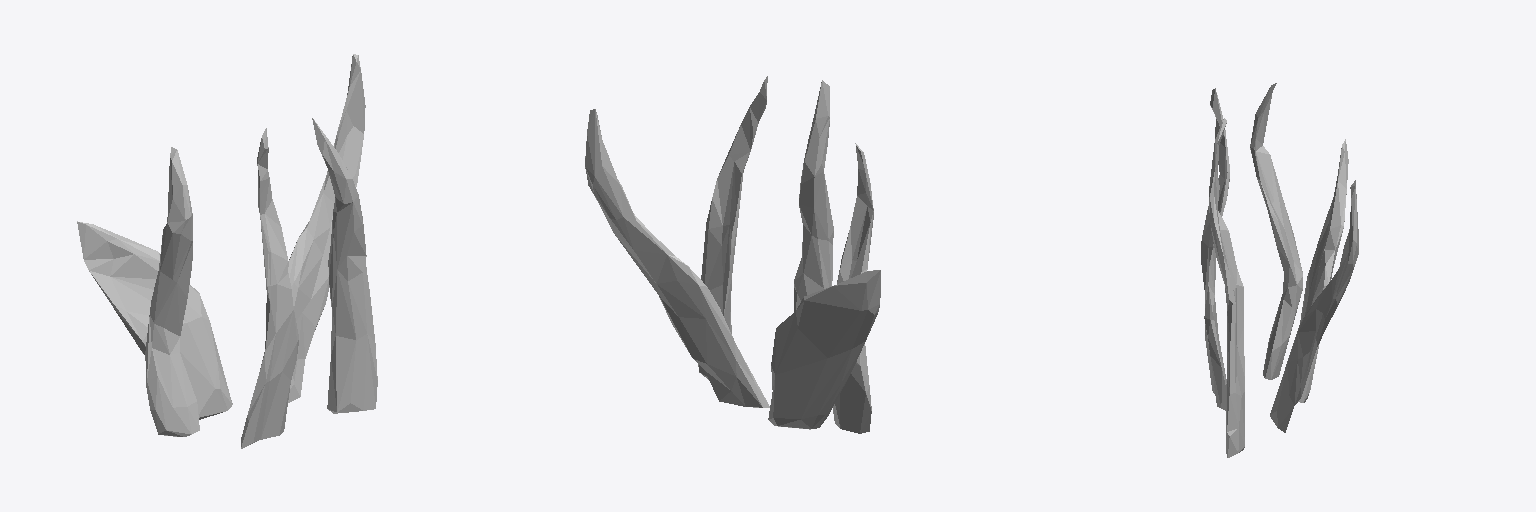
Rendered from Algae_Green.obj.
The picture shows the model from 3 angles: view 1: azimuth 30°, elevation 25°; view 2: azimuth 150°, elevation 25°; view 3: azimuth 270°, elevation 25°; orthographic projection.
Visible parts, largest first — view 1: pasted__pasted__pasted__pCube13; view 2: pasted__pasted__pasted__pCube13; view 3: pasted__pasted__pasted__pCube13.
Boxes of the visible parts, <box> form: pasted__pasted__pasted__pCube13: <box>77,54,377,448</box>; pasted__pasted__pasted__pCube13: <box>585,76,880,433</box>; pasted__pasted__pasted__pCube13: <box>1201,83,1358,457</box>.
Bounding box in the file's own units: 3.41 × 3.52 × 1.61.